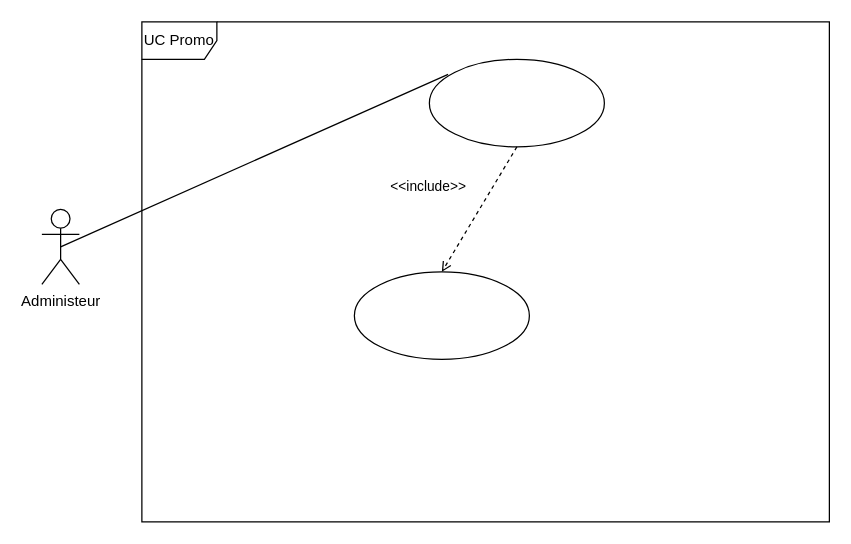
Some shapes in this 851 by 544 pixel diagram are drawn without their labels. Each missing label, with the box of its shape:
Consulter les stock: (353, 271, 529, 359)
Effectuer une promotion: (428, 58, 604, 147)
